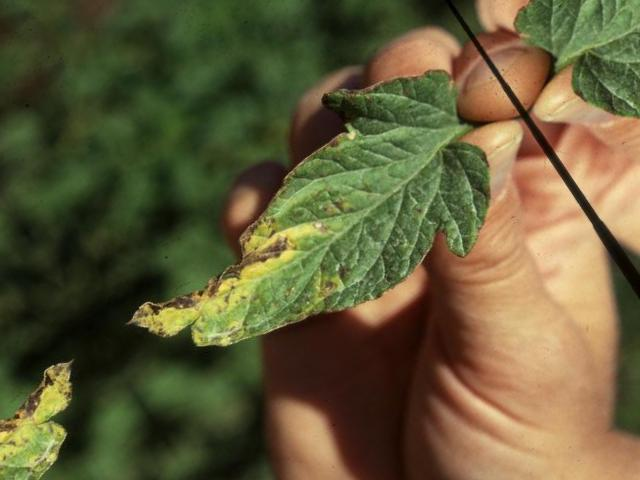Tomato leaf bacterial spot: (75, 22, 553, 442)
